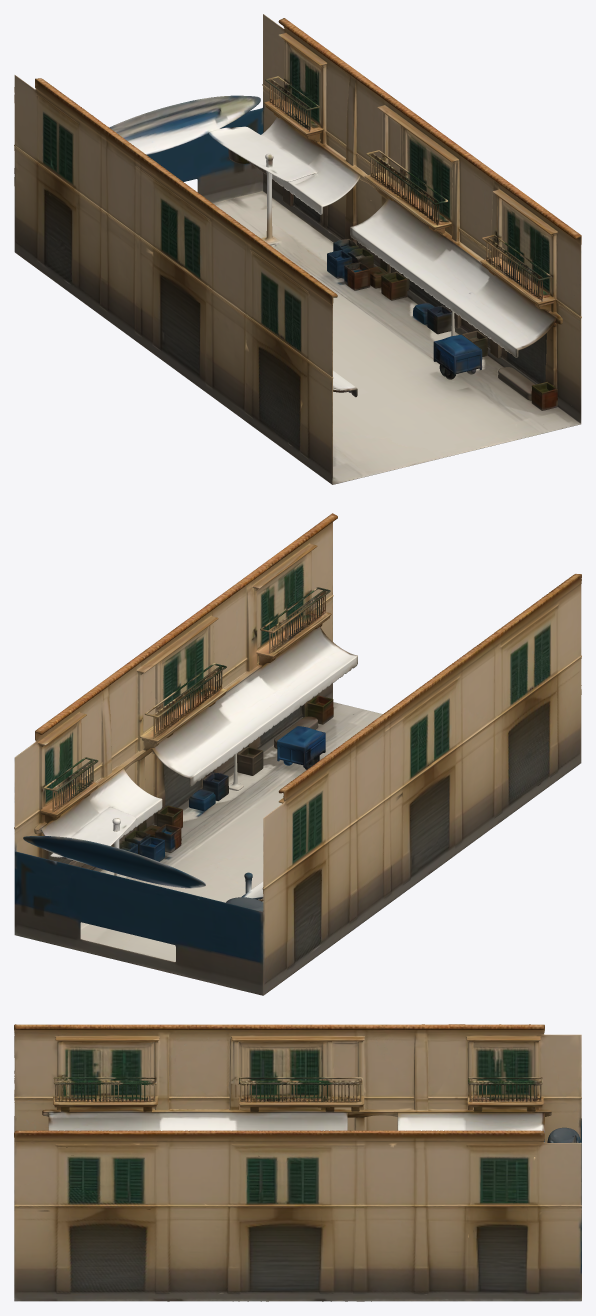
The model's file is seaside-visual.glb.
The picture shows the model from 3 angles, top to bottom: view 1: azimuth 30°, elevation 25°; view 2: azimuth 150°, elevation 25°; view 3: azimuth 270°, elevation 25°; orthographic projection. The views are drawn at different scales.
Parts seen in each view (by area): view 1: node_0; view 2: node_0; view 3: node_0.
Boxes of the visible parts, left/top/right/bottom form: node_0: left=14, top=14, right=581, bottom=484; node_0: left=14, top=513, right=581, bottom=995; node_0: left=14, top=1024, right=581, bottom=1301.
Bounding box in the file's own units: 0.4763 × 0.3441 × 1.05.
1 material, 1 textured.
